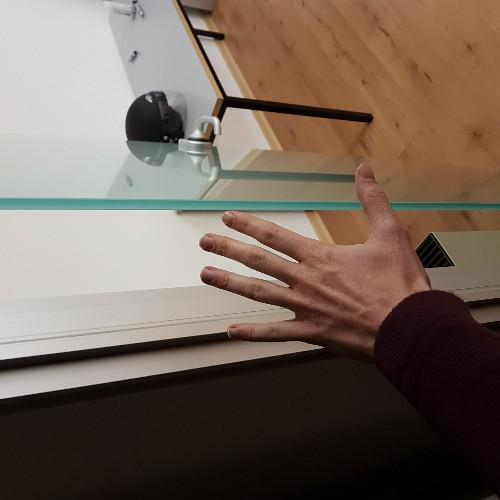paper: (188, 160, 452, 382)
